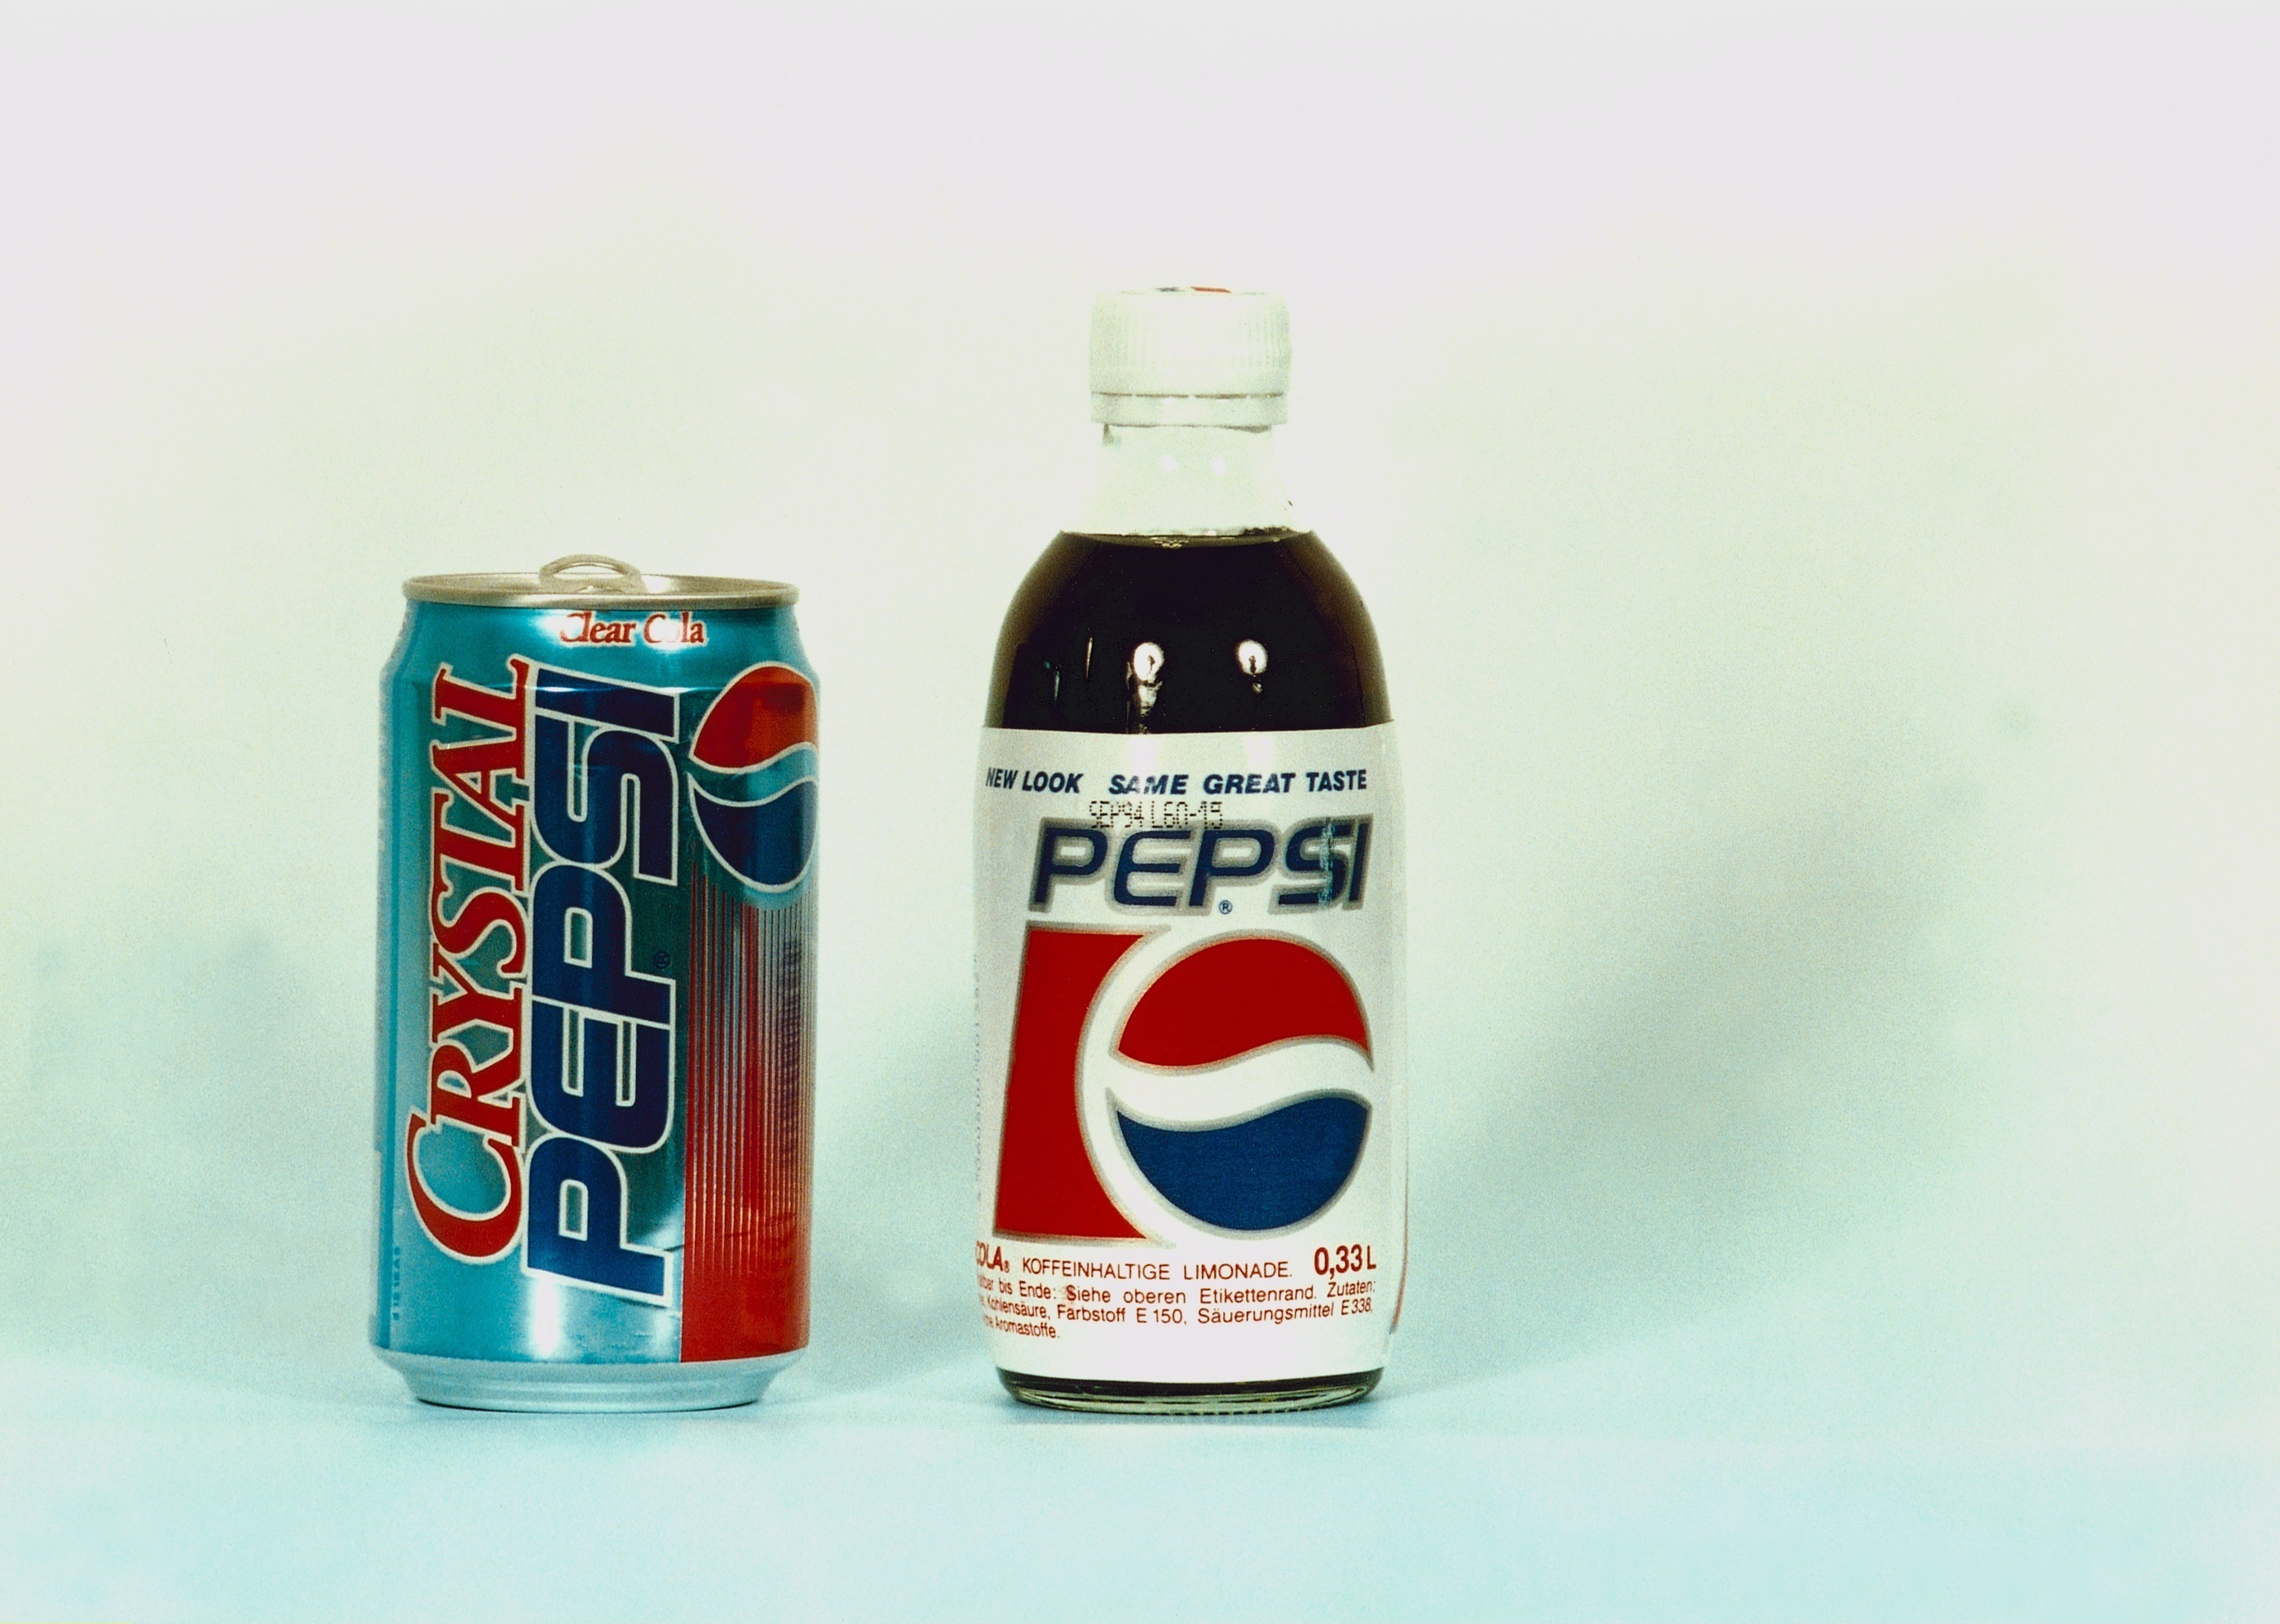pepsi: (1116, 942, 1371, 1232), (694, 657, 810, 884)
